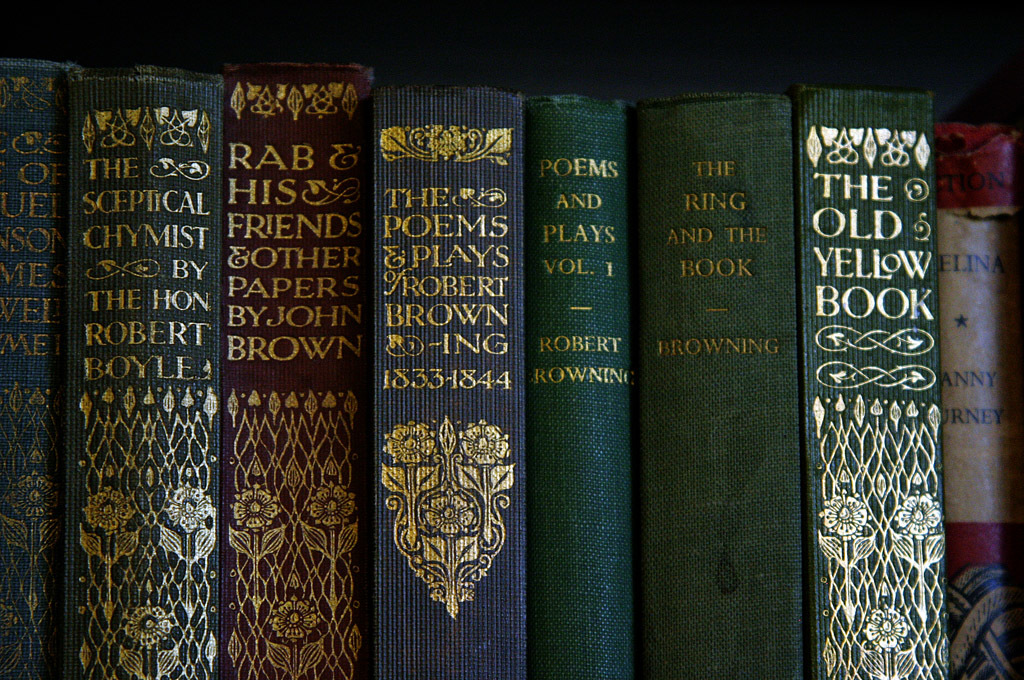Book: (0, 58, 1020, 679)
